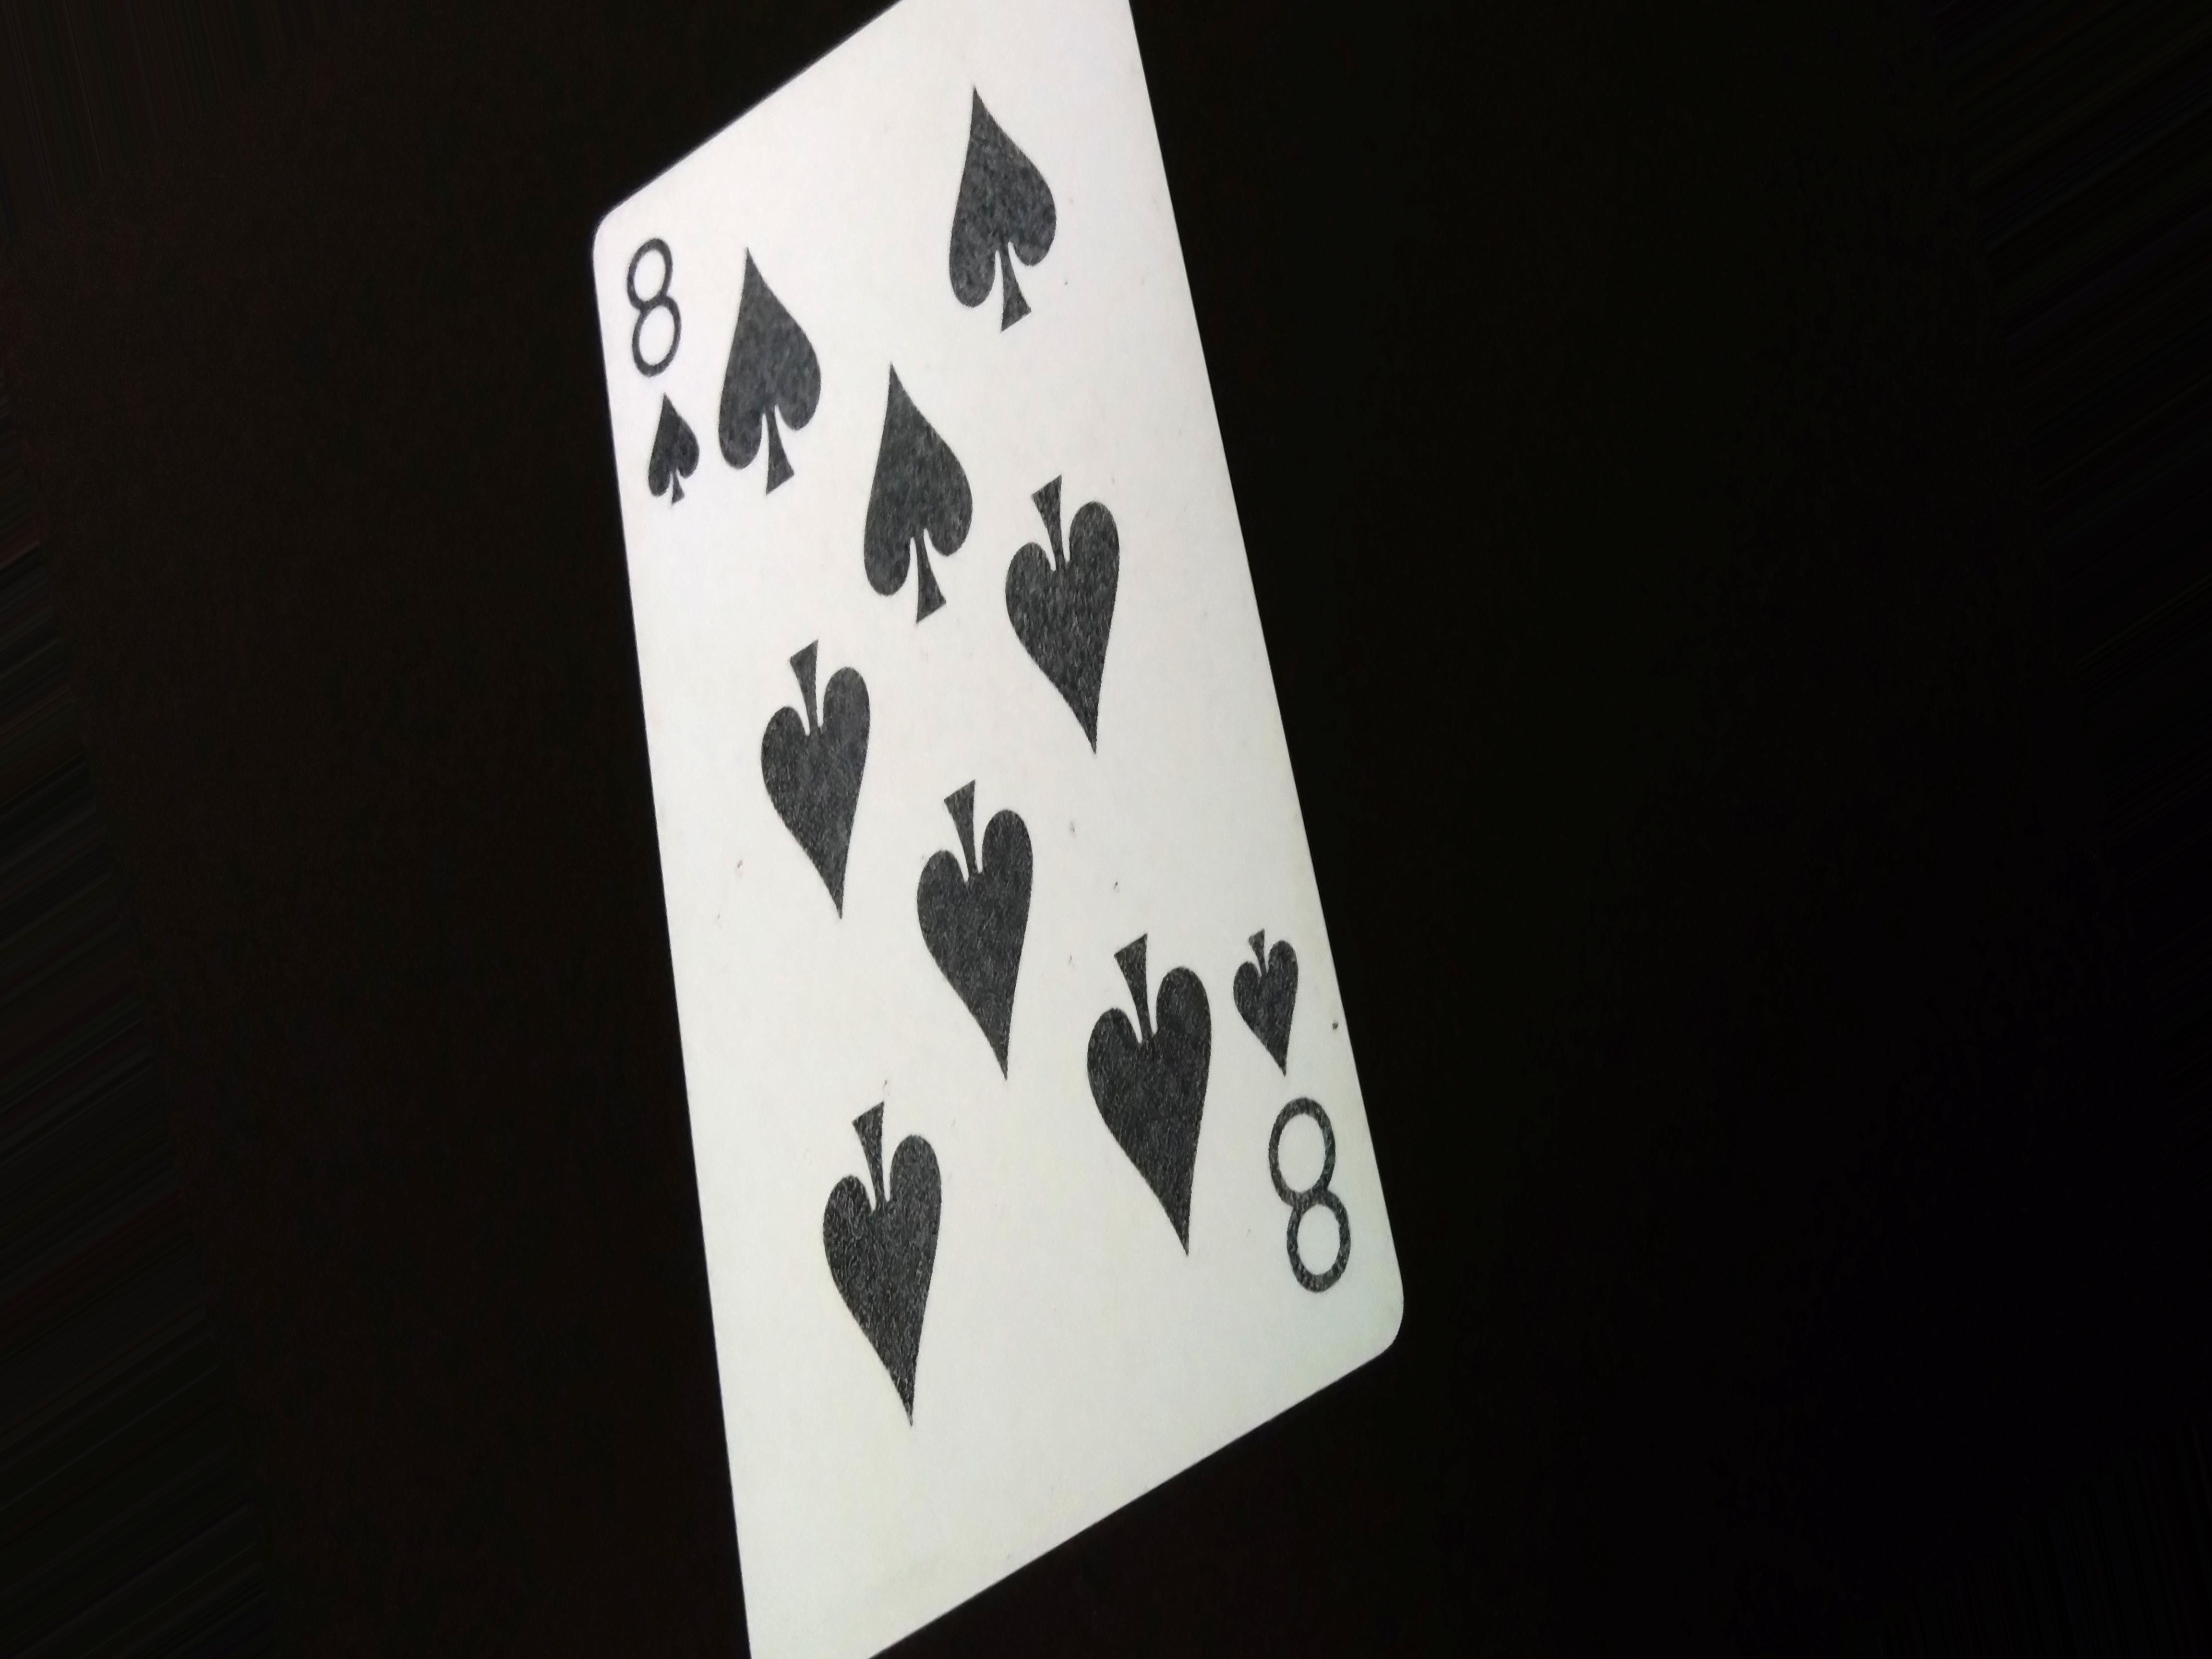8S: (639, 218, 704, 516)
